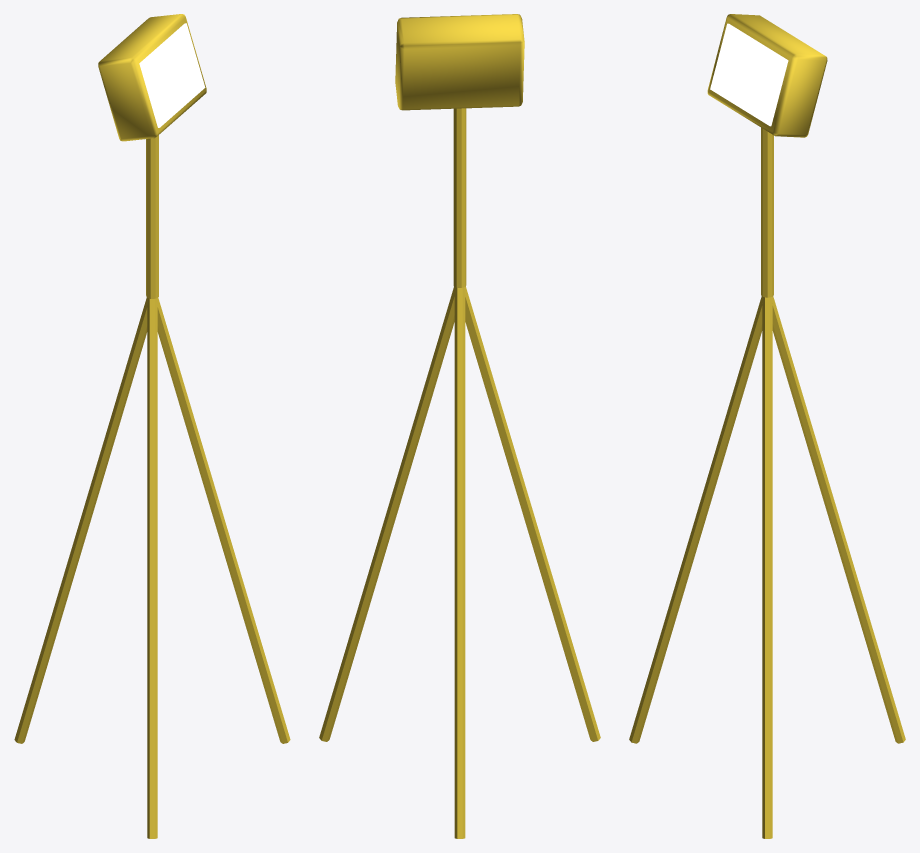
Rendered from work_light.glb.
3 renders of one model, left to right at view 1: azimuth 30°, elevation 25°; view 2: azimuth 150°, elevation 25°; view 3: azimuth 270°, elevation 25°, orthographic. The views are drawn at different scales.
Parts seen in each view (by area): view 1: Tool yellow, Work light lens; view 2: Tool yellow; view 3: Tool yellow, Work light lens.
Part boxes in pixels (x1,y1,x2,y2): Tool yellow: (14, 14, 290, 838); Work light lens: (139, 23, 205, 127); Tool yellow: (319, 14, 600, 838); Tool yellow: (629, 14, 905, 838); Work light lens: (710, 23, 788, 126).
Size of the model in its own units: 0.5453 by 1.86 by 0.6295.
